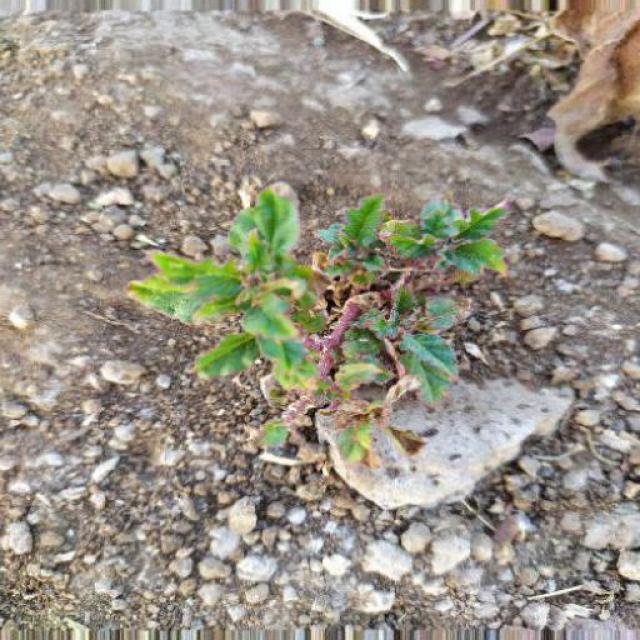weed: (131, 186, 520, 486)
